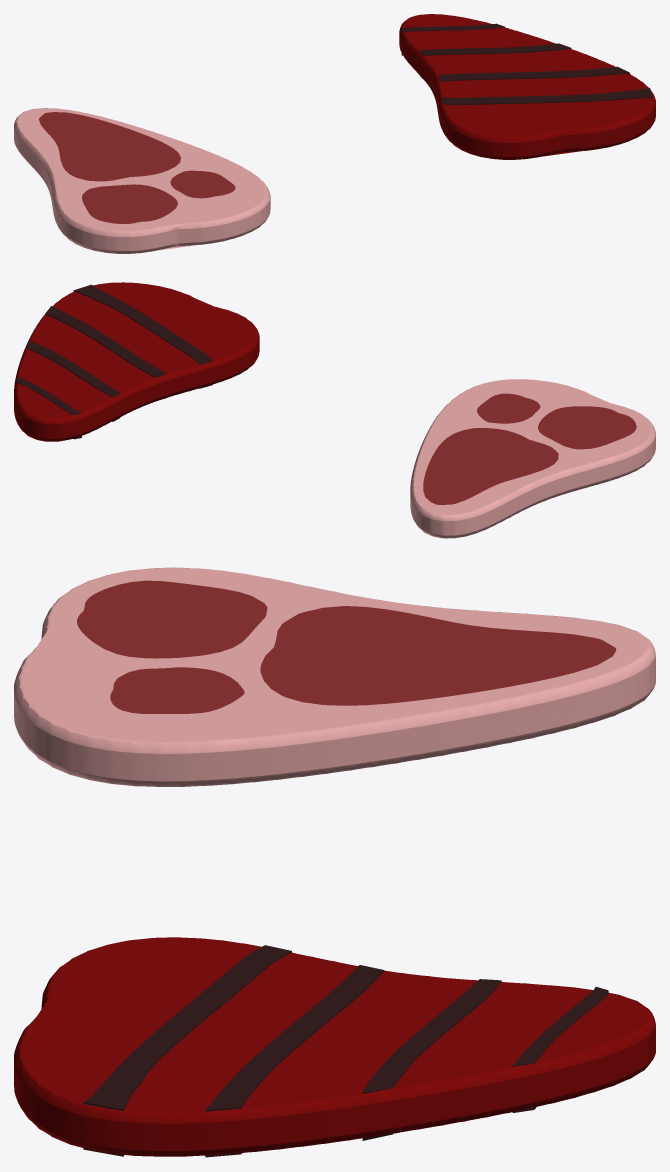
File: steaks.fbx
3 views of the same model, one above another, from view 1: azimuth 30°, elevation 25°; view 2: azimuth 150°, elevation 25°; view 3: azimuth 270°, elevation 25° (orthographic). The views are drawn at different scales.
Parts seen in each view (by area): view 1: cookedSteak, steak, nurbsToPoly1, nurbsToPoly3, pCube1, pCube2, nurbsToPoly2, pCube3, pCube4; view 2: cookedSteak, steak, nurbsToPoly1, nurbsToPoly3, pCube1, nurbsToPoly2, pCube2, pCube3, pCube4; view 3: cookedSteak, steak, nurbsToPoly1, nurbsToPoly3, pCube1, nurbsToPoly2, pCube2, pCube3, pCube4.
Part boxes in pixels (x1=…): cookedSteak: x1=399, y1=14, x2=655, y2=159; steak: x1=14, y1=108, x2=270, y2=253; nurbsToPoly1: x1=39, y1=112, x2=180, y2=181; nurbsToPoly3: x1=82, y1=184, x2=177, y2=223; pCube1: x1=442, y1=88, x2=652, y2=105; pCube2: x1=438, y1=66, x2=629, y2=81; nurbsToPoly2: x1=170, y1=170, x2=235, y2=198; pCube3: x1=419, y1=43, x2=571, y2=55; pCube4: x1=401, y1=23, x2=505, y2=31; cookedSteak: x1=14, y1=282, x2=259, y2=441; steak: x1=410, y1=379, x2=655, y2=538; nurbsToPoly1: x1=423, y1=428, x2=558, y2=504; nurbsToPoly3: x1=538, y1=406, x2=636, y2=449; pCube1: x1=73, y1=284, x2=212, y2=364; nurbsToPoly2: x1=477, y1=393, x2=540, y2=423; pCube2: x1=45, y1=306, x2=166, y2=377; pCube3: x1=26, y1=340, x2=120, y2=396; pCube4: x1=16, y1=376, x2=81, y2=414; cookedSteak: x1=14, y1=937, x2=655, y2=1156; steak: x1=14, y1=567, x2=655, y2=786; nurbsToPoly1: x1=260, y1=606, x2=616, y2=705; nurbsToPoly3: x1=77, y1=580, x2=267, y2=658; pCube1: x1=83, y1=945, x2=291, y2=1110; nurbsToPoly2: x1=110, y1=667, x2=244, y2=713; pCube2: x1=205, y1=965, x2=384, y2=1111; pCube3: x1=362, y1=979, x2=501, y2=1093; pCube4: x1=512, y1=987, x2=608, y2=1066.
Size of the model in its own units: 3.21 by 0.1347 by 1.58.
